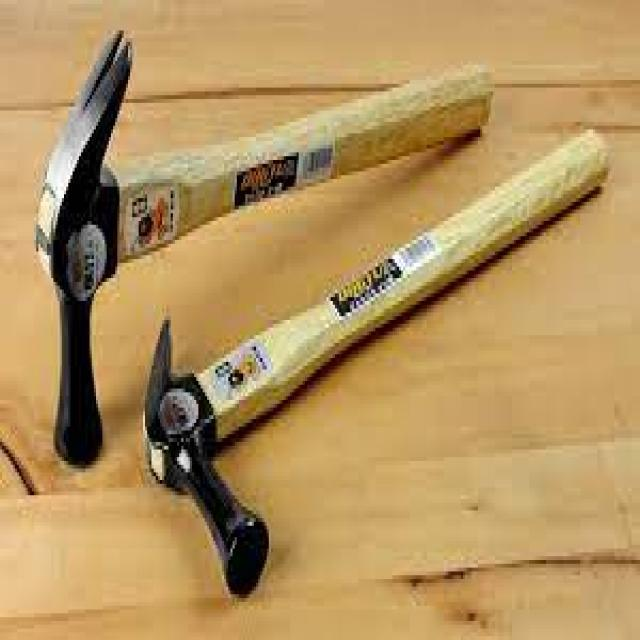hammer: (131, 119, 611, 612), (29, 24, 536, 474)
